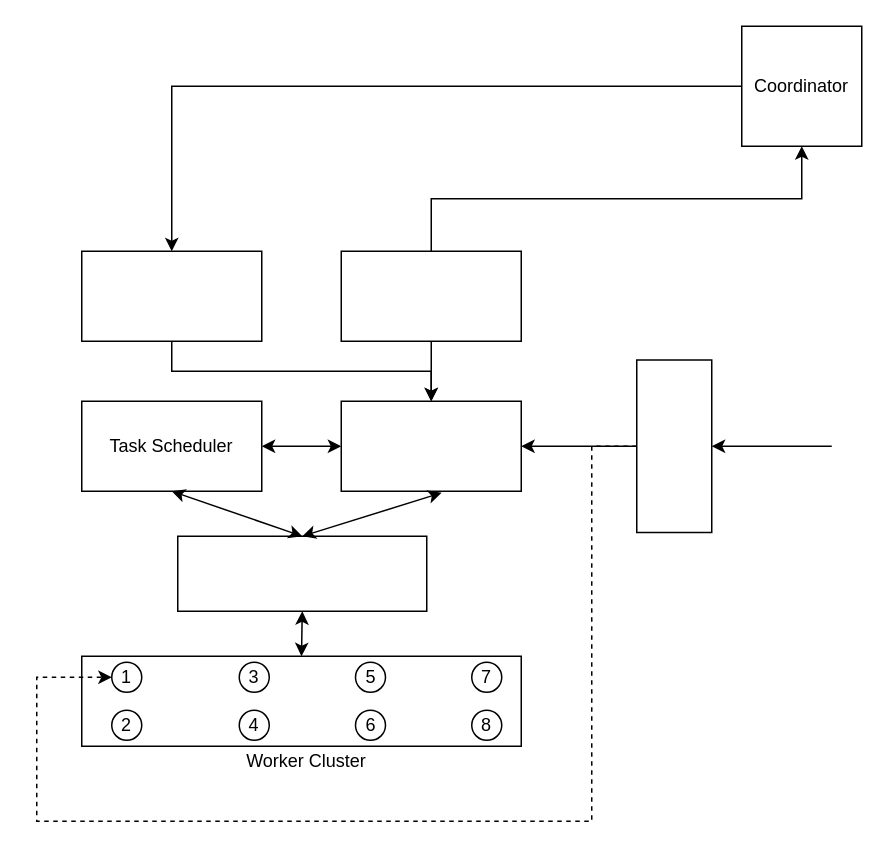
This 888x860 diagram has some shape labels left out. Here are the shapes that lost their labels. From the top down, the centre of each, then its label:
the point at 171,295: API Server
the point at 430,295: Task Reporter
the point at 430,445: Task Controller
the point at 673,445: Proxy
the point at 301,573: Worker Meta
